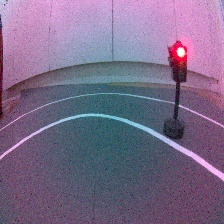red: (163, 38, 192, 143)
